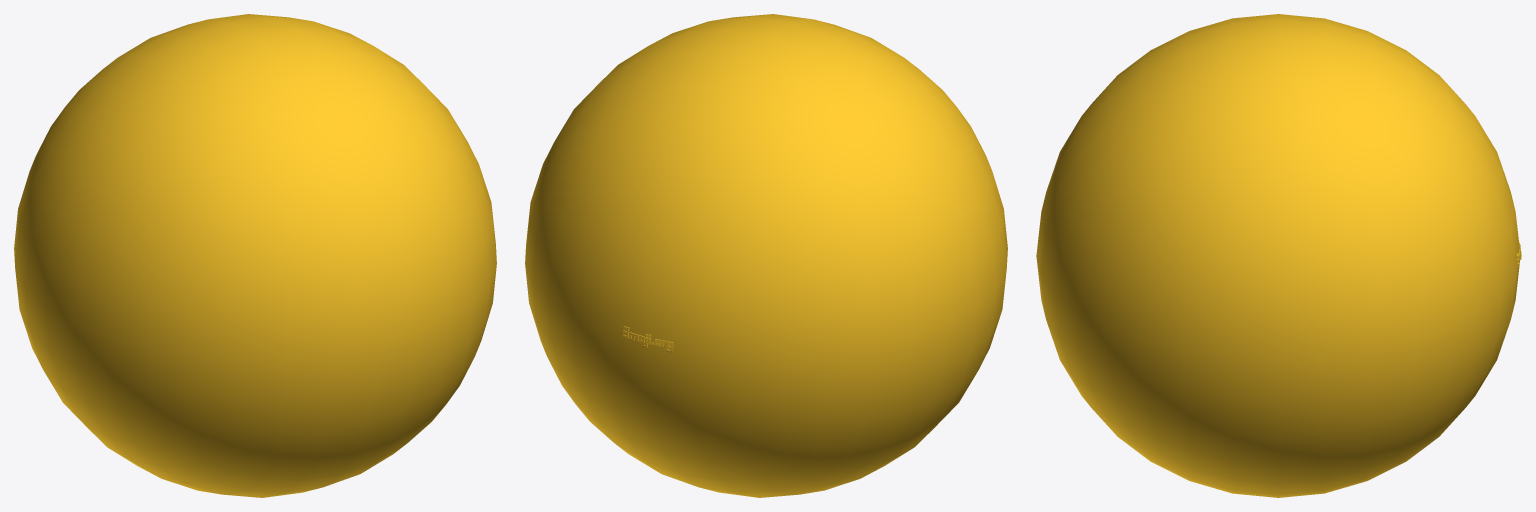
File: yellow_circle.fbx
3 views of the same model, side by side, from view 1: azimuth 30°, elevation 25°; view 2: azimuth 150°, elevation 25°; view 3: azimuth 270°, elevation 25° (orthographic).
Parts seen in each view (by area): view 1: Cube.6664; view 2: Cube.6664; view 3: Cube.6664.
Boxes of the visible parts, x1,y1,x2,y2 form: Cube.6664: [14, 14, 496, 497]; Cube.6664: [525, 14, 1007, 497]; Cube.6664: [1036, 14, 1521, 497].
Bounding box in the file's own units: 223 × 223 × 223.
Materials: 1 (1 with a texture image).
